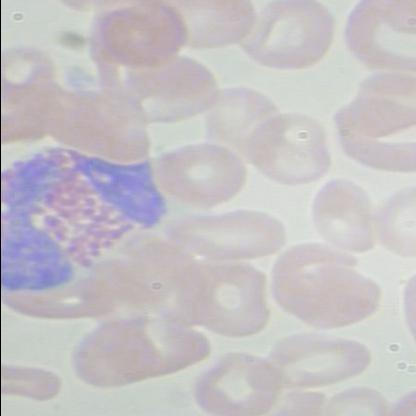Platelets: (56, 60, 94, 94)
RBC: (63, 310, 160, 396), (236, 108, 332, 190), (162, 200, 288, 262), (244, 334, 374, 392), (283, 262, 382, 336), (149, 140, 248, 214), (235, 0, 336, 72), (93, 0, 194, 70), (190, 254, 270, 340), (326, 112, 414, 180), (191, 346, 276, 415), (302, 176, 378, 252), (198, 87, 274, 148), (1, 39, 60, 101), (375, 178, 415, 262)
WBC: (1, 144, 171, 297)
